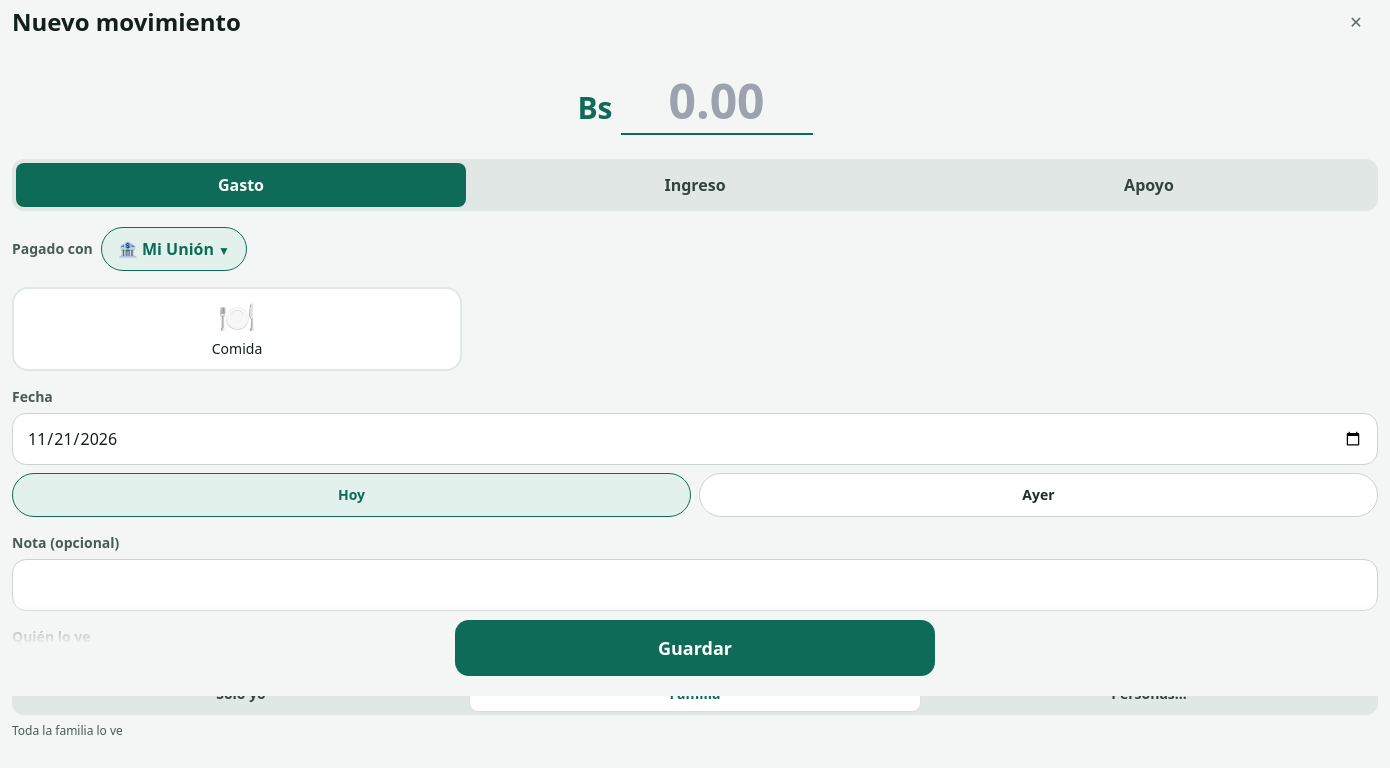
it: Nuevo movimiento con fuente › con banco y sin conexión: no se guarda y dice que necesita conexión
Type "5" into the field named "Monto".
click(716, 102); type("5")  # box 620,68 -> 812,135
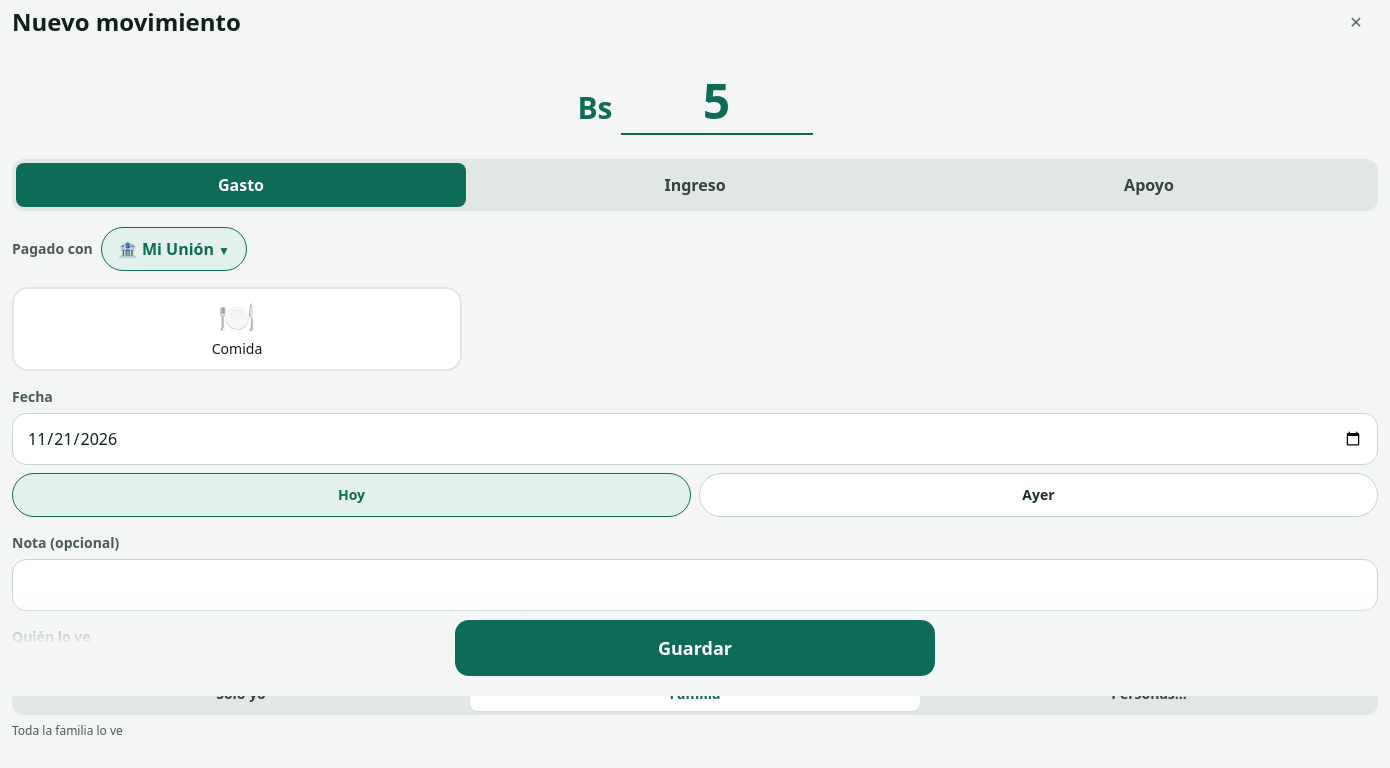
Click the radio button labelled "🍽️ Comida".
click(237, 329)  # box 12,287 -> 462,371
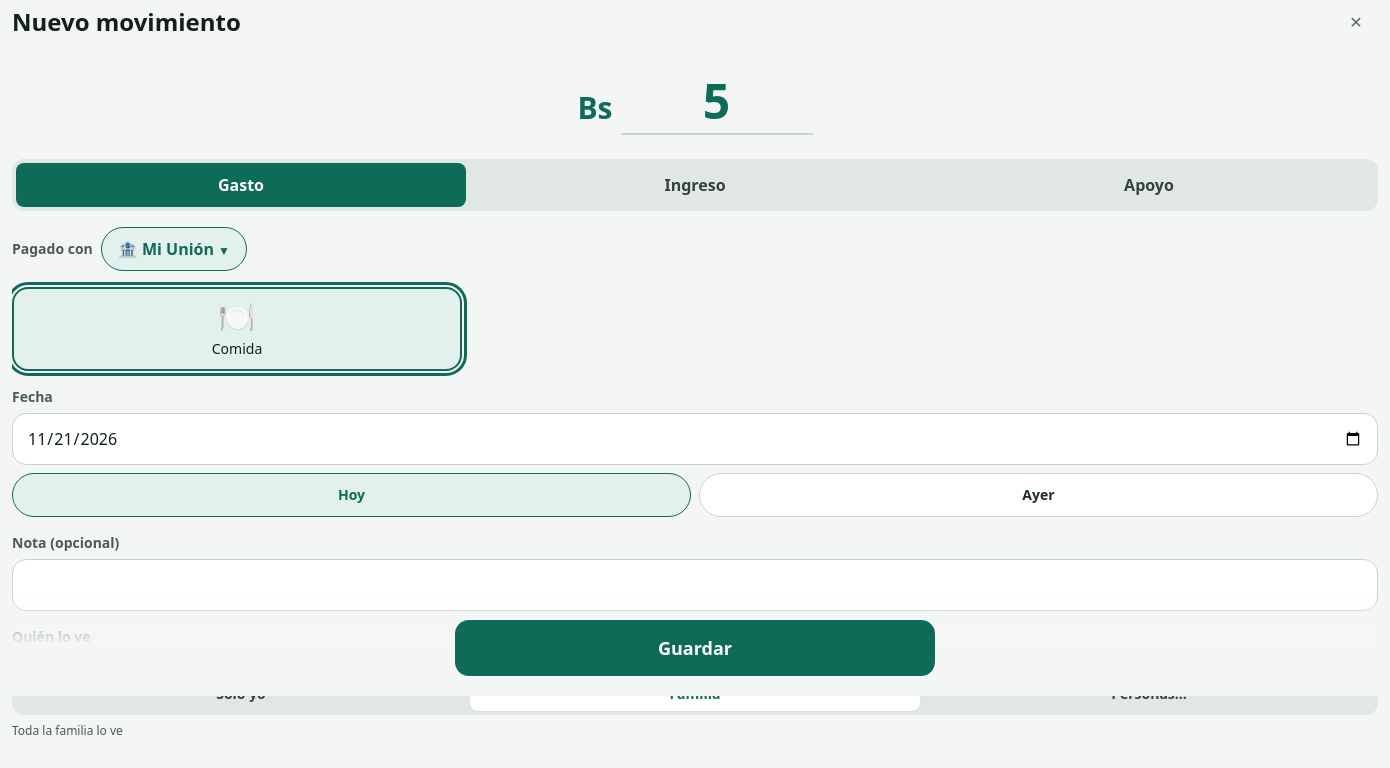
Click the button "Guardar".
click(695, 648)  # box 455,620 -> 935,676
(page scrolled)
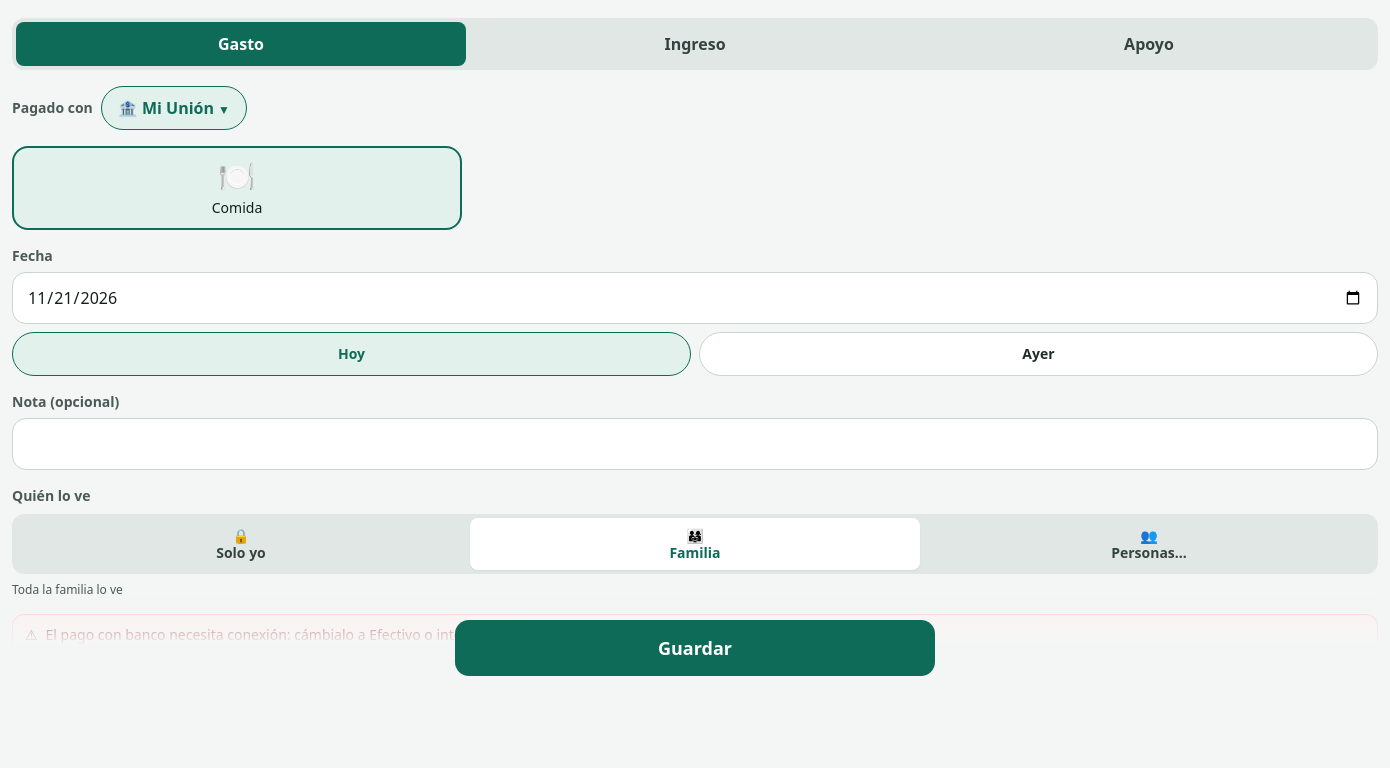
Now the message shows "El pago con banco necesita conexión", box 46,625 -> 653,644
